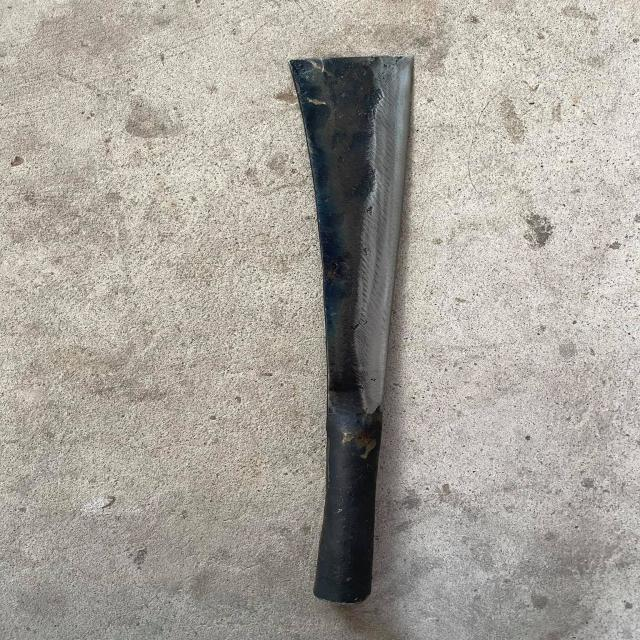eto: (290, 53, 422, 606)
